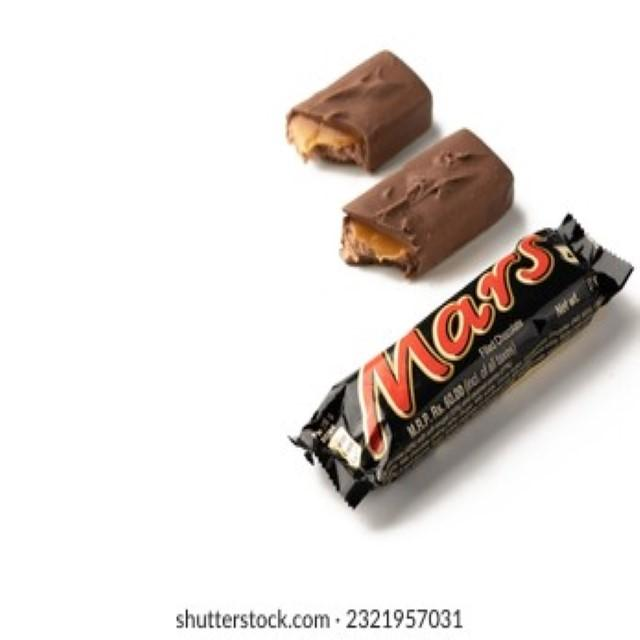mars_chocolate: (347, 225, 608, 513)
